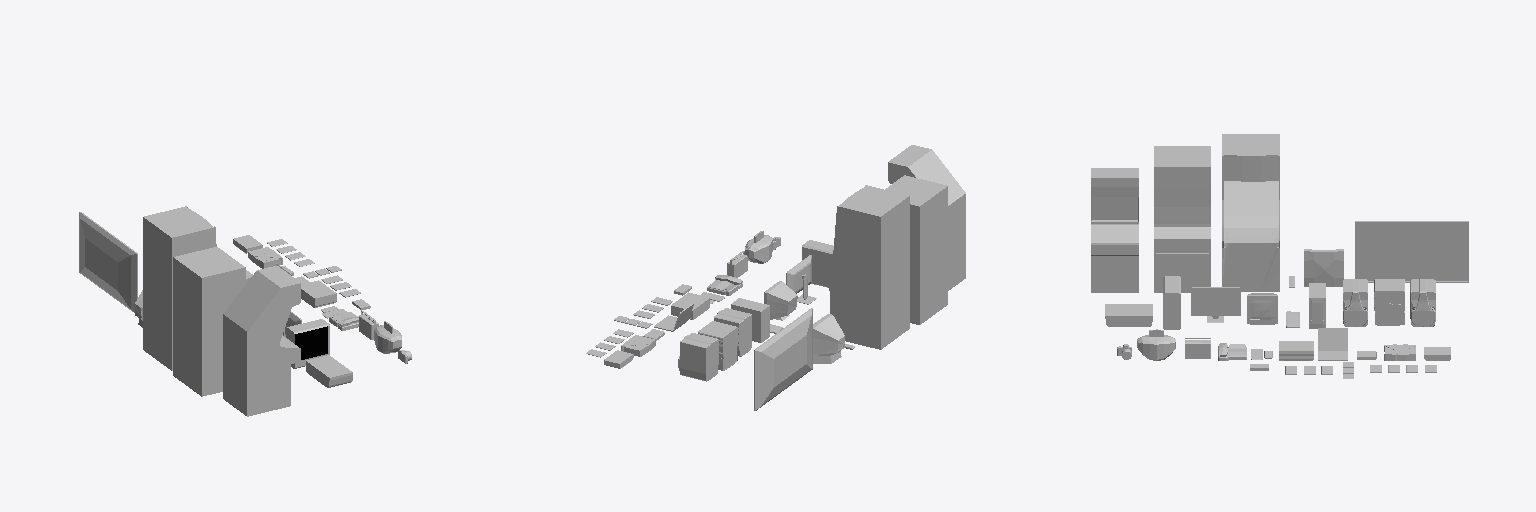
File: Models.obj
3 views of the same model, side by side, from view 1: azimuth 30°, elevation 25°; view 2: azimuth 150°, elevation 25°; view 3: azimuth 270°, elevation 25° (orthographic).
Visible parts, largest first — view 1: arcade3_Plane.039, arcade2_Plane.038, arcade1_Plane.026, SmartTV_Plane.012, pcGaming_Plane.025, printer_Plane.023, VHSPlayer_Plane.010, oldStereo_Plane.008; view 2: arcade1_Plane.026, arcade2_Plane.038, SmartTV_Plane.012, arcade3_Plane.039, oldSoundSystem2_Plane.018, oldTV_Plane.014, oldSoundSystem_Plane.016, pcGaming_Plane.025, oldMonitor_Plane.009, oldPC_Plane.007, oldSoundSystem2.001_Plane.013, oldStereo_Plane.008 (+2 smaller); view 3: arcade1_Plane.026, arcade2_Plane.038, SmartTV_Plane.012, arcade3_Plane.039, monitor_Plane.019, oldSoundSystem_Plane.016, oldTV_Plane.014, oldSoundSystem2_Plane.018, oldSoundSystem2.001_Plane.013, printer_Plane.023, oldMonitor_Plane.009, pcGaming_Plane.025 (+4 smaller).
Boxes of the visible parts, x1=… form: arcade3_Plane.039: x1=223, y1=266, x2=300, y2=416; arcade2_Plane.038: x1=173, y1=247, x2=245, y2=396; arcade1_Plane.026: x1=143, y1=206, x2=216, y2=370; SmartTV_Plane.012: x1=79, y1=212, x2=137, y2=312; pcGaming_Plane.025: x1=286, y1=319, x2=329, y2=368; printer_Plane.023: x1=306, y1=355, x2=352, y2=387; VHSPlayer_Plane.010: x1=301, y1=280, x2=336, y2=307; oldStereo_Plane.008: x1=374, y1=321, x2=401, y2=353; arcade1_Plane.026: x1=828, y1=185, x2=909, y2=349; arcade2_Plane.038: x1=885, y1=175, x2=947, y2=324; SmartTV_Plane.012: x1=754, y1=308, x2=812, y2=410; arcade3_Plane.039: x1=888, y1=145, x2=965, y2=290; oldSoundSystem2_Plane.018: x1=678, y1=333, x2=718, y2=381; oldTV_Plane.014: x1=813, y1=314, x2=844, y2=363; oldSoundSystem_Plane.016: x1=698, y1=321, x2=738, y2=370; pcGaming_Plane.025: x1=802, y1=240, x2=833, y2=287; oldMonitor_Plane.009: x1=764, y1=281, x2=797, y2=320; oldPC_Plane.007: x1=731, y1=298, x2=769, y2=342; oldSoundSystem2.001_Plane.013: x1=714, y1=308, x2=751, y2=356; oldStereo_Plane.008: x1=745, y1=231, x2=772, y2=263; arcade1_Plane.026: x1=1222, y1=134, x2=1279, y2=291; arcade2_Plane.038: x1=1154, y1=146, x2=1210, y2=292; SmartTV_Plane.012: x1=1355, y1=221, x2=1468, y2=282; arcade3_Plane.039: x1=1091, y1=168, x2=1138, y2=292; monitor_Plane.019: x1=1191, y1=287, x2=1240, y2=315; oldSoundSystem_Plane.016: x1=1374, y1=279, x2=1404, y2=325; oldTV_Plane.014: x1=1304, y1=249, x2=1343, y2=286; oldSoundSystem2_Plane.018: x1=1410, y1=279, x2=1435, y2=326; oldSoundSystem2.001_Plane.013: x1=1343, y1=279, x2=1367, y2=326; printer_Plane.023: x1=1105, y1=304, x2=1152, y2=326; oldMonitor_Plane.009: x1=1247, y1=293, x2=1277, y2=324; pcGaming_Plane.025: x1=1163, y1=276, x2=1180, y2=329.
Size of the model in its own units: 37.61 by 20.45 by 52.59.